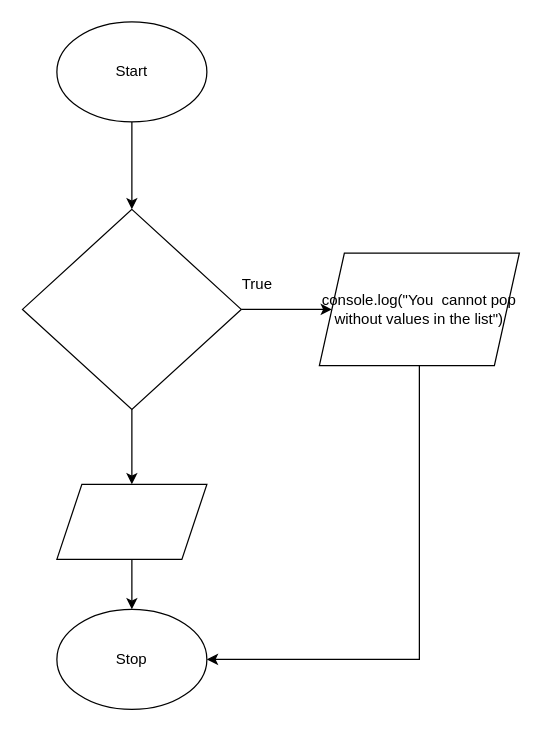
The diagram is 541 pixels wide and 731 high, and some of its shapes have lost their labels. Each missing label, with the centre of its shape:
if (this..stackList.length === 0): [131,308]
Pop stack: [131,521]
